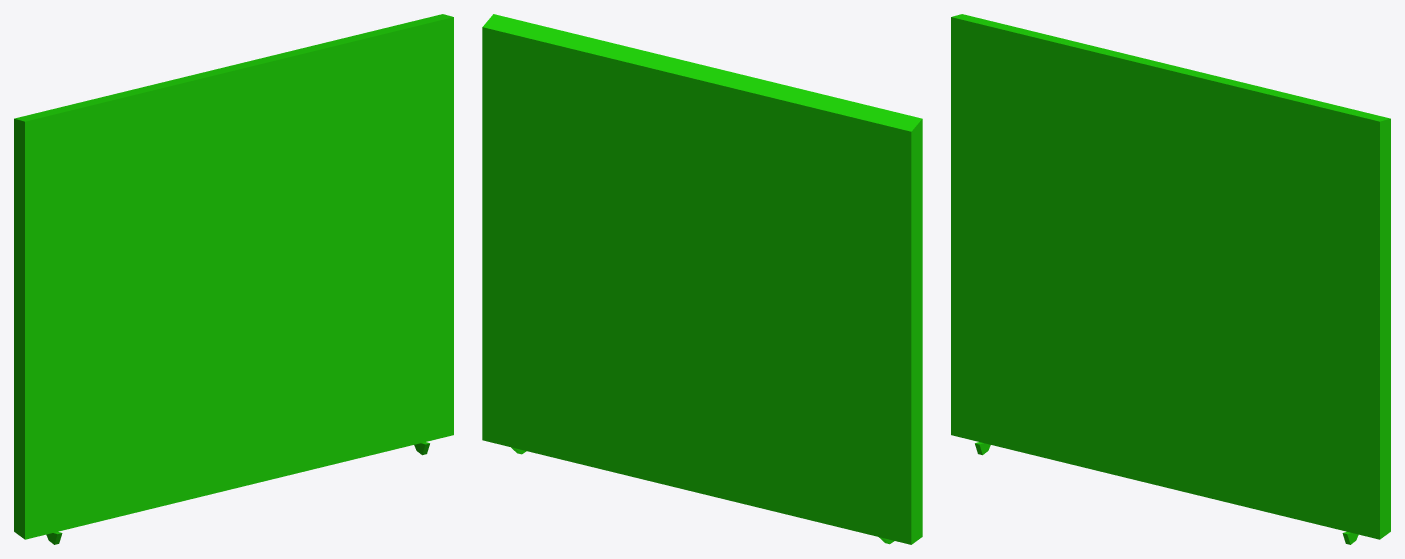
Rendered from SM_Cap_Collider.fbx.
The picture shows the model from 3 angles, left to right: view 1: azimuth 30°, elevation 25°; view 2: azimuth 150°, elevation 25°; view 3: azimuth 330°, elevation 25°; orthographic projection.
Parts seen in each view (by area): view 1: SM_Cap_Collider; view 2: SM_Cap_Collider; view 3: SM_Cap_Collider.
Part boxes in pixels (left/top/right/bottom): SM_Cap_Collider: left=14, top=14, right=453, bottom=544; SM_Cap_Collider: left=482, top=14, right=922, bottom=544; SM_Cap_Collider: left=951, top=14, right=1390, bottom=544.
Size of the model in its own units: 83.86 by 80.23 by 5.26.
